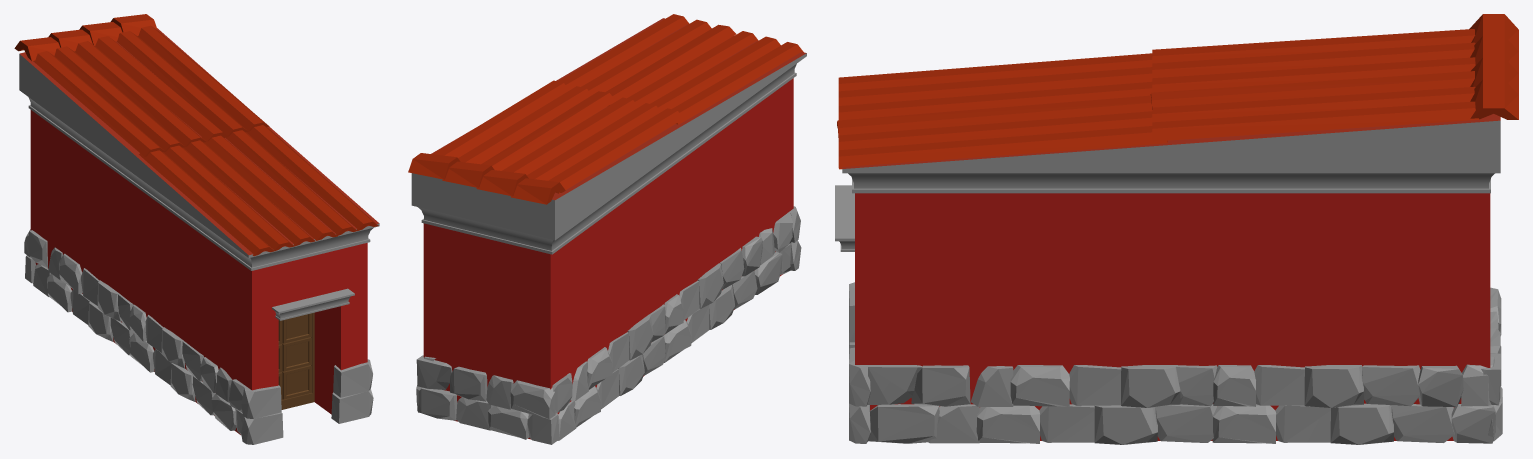
The model's file is SM_attachment_building_02.fbx.
The picture shows the model from 3 angles, left to right: view 1: azimuth 30°, elevation 25°; view 2: azimuth 150°, elevation 25°; view 3: azimuth 270°, elevation 25°; orthographic projection. The views are drawn at different scales.
Visible parts, largest first — view 1: Object243; view 2: Object243; view 3: Object243.
Part boxes in pixels (box(x1,y1,x2,y2)): Object243: box(14, 14, 379, 444); Object243: box(408, 14, 806, 444); Object243: box(835, 14, 1518, 444).
Bounding box in the file's own units: 113 × 198 × 358.
